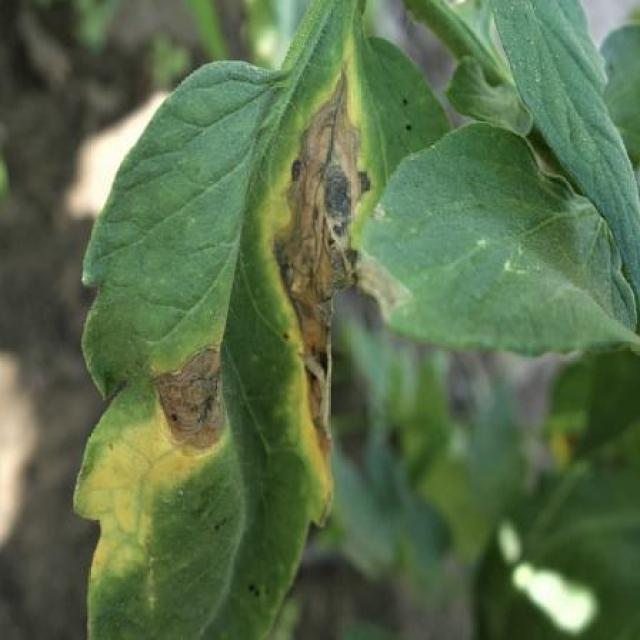Early Blight: (72, 58, 376, 640)
